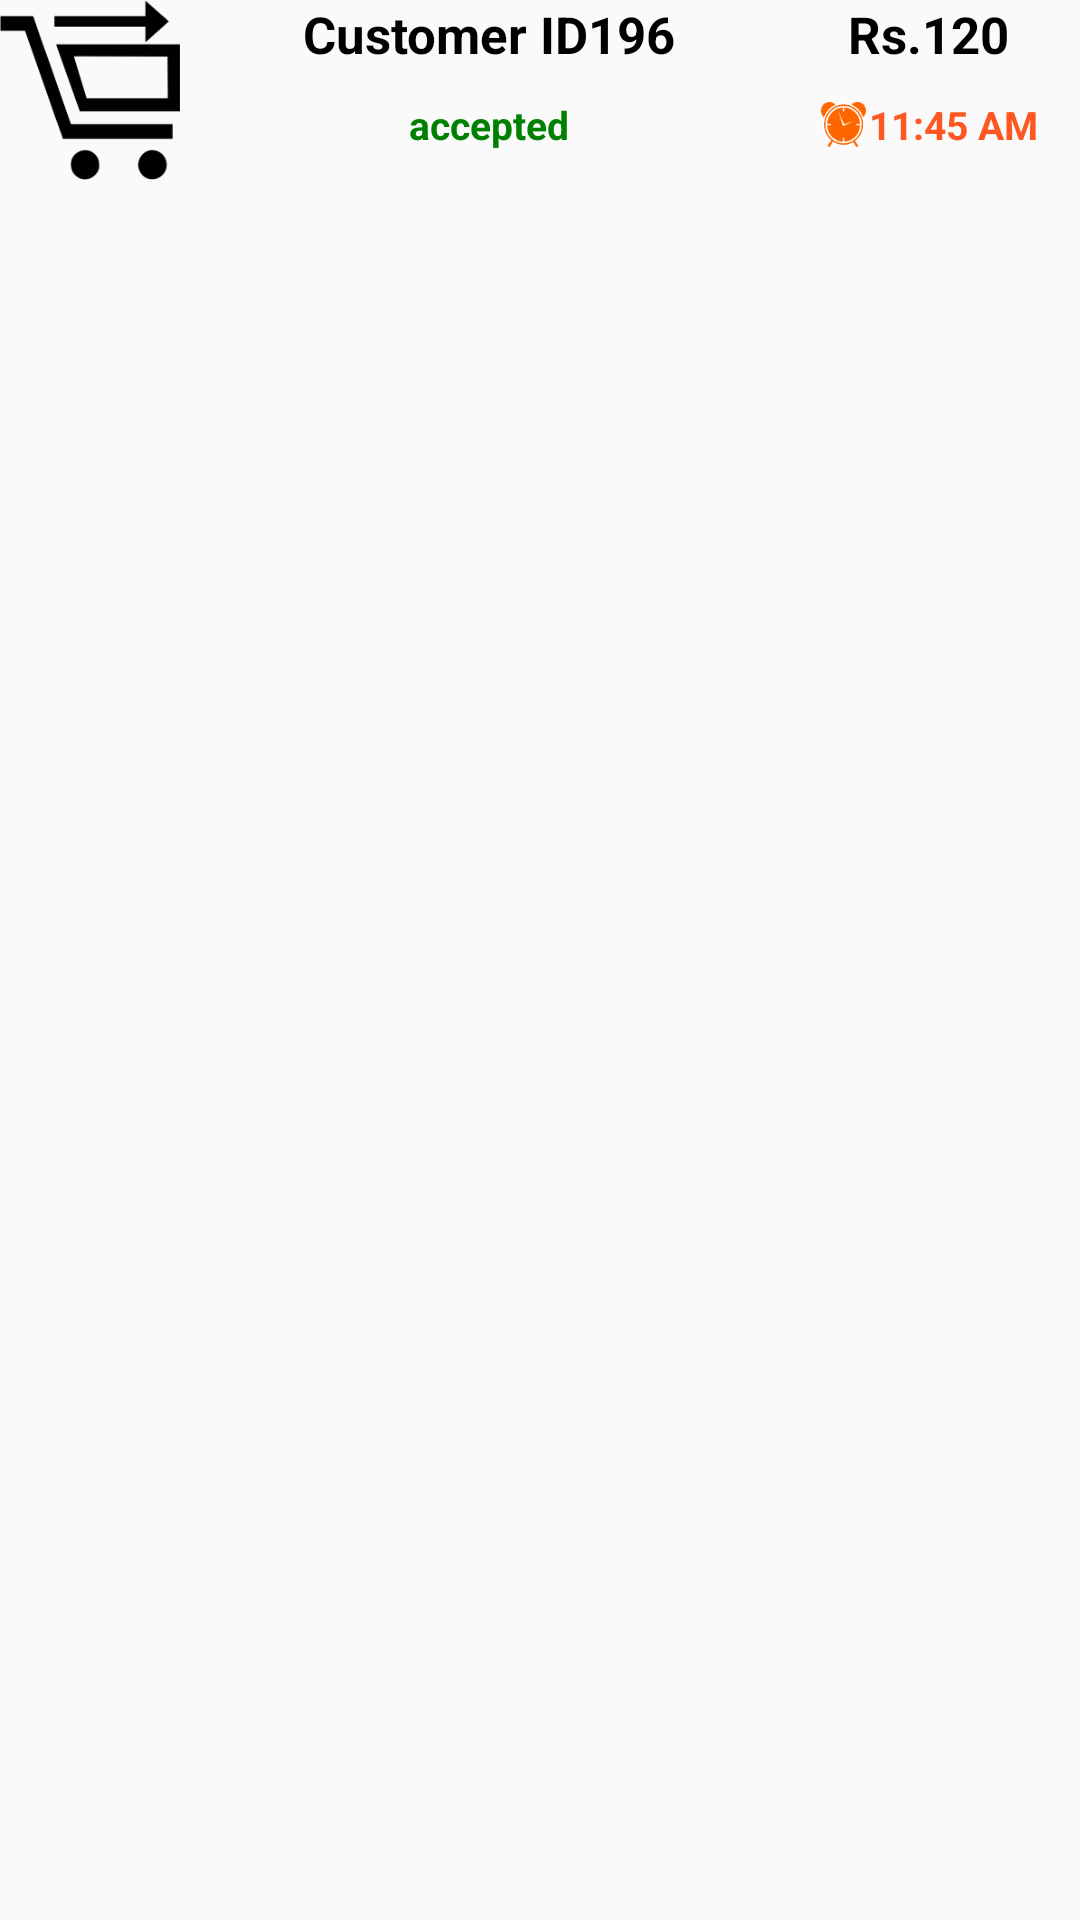

Icon click points for this 1080w x 1920h phone screenshot, format point (x, y):
basketblack: point (90, 90)
watch: point (843, 124)
